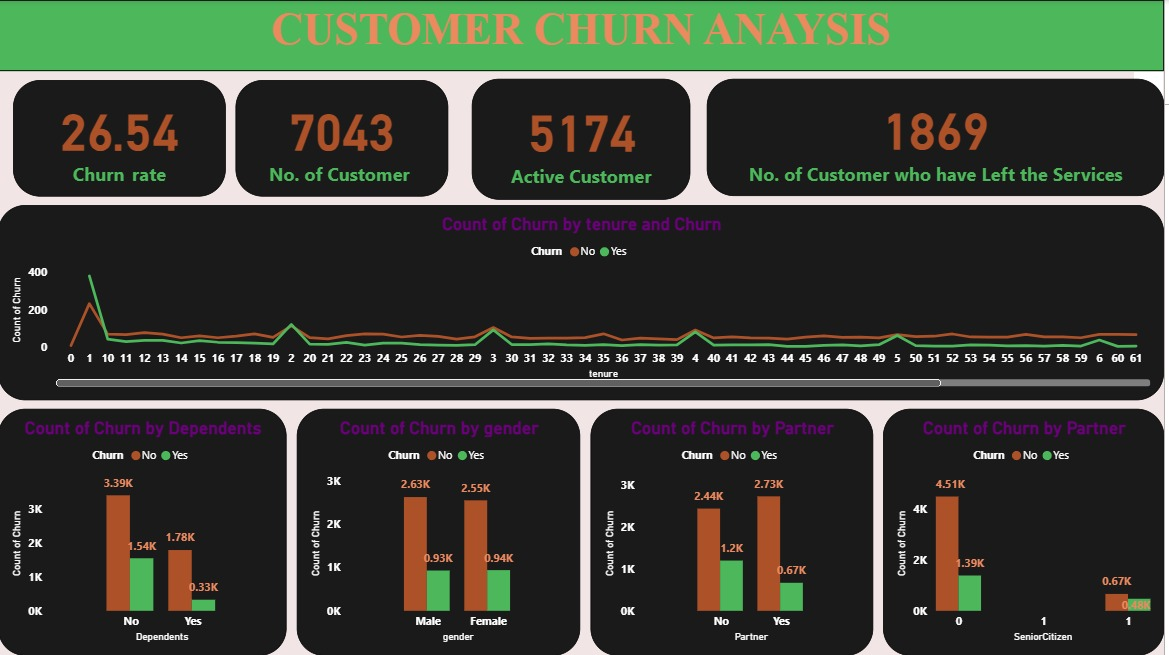

This screenshot's page, from the dashboard's own definition file:
{"tool":"powerbi","page":{"name":"Page 1","canvas":[1280,720],"ordinal":0},"visuals":[{"type":"textbox","box":[0,0,1280.3,78.2],"z":0},{"type":"card","fields":{"Values":["CountNonNull(Cutomer_churn_analysis.Customer ID)"]},"box":[260.7,87.8,233.3,127.6],"z":1000},{"type":"card","fields":{"Values":["CountNonNull(Cutomer_churn_analysis.Churn)"]},"box":[778,86.4,502.2,129],"z":2000},{"type":"card","fields":{"Values":["Cutomer_churn_analysis.Churn_rate"]},"box":[16.5,87.8,233.3,127.6],"z":3000},{"type":"clusteredColumnChart","title":"Count of Churn by Dependents","fields":{"Category":["Cutomer_churn_analysis.Dependents"],"Y":["CountNonNull(Cutomer_churn_analysis.Churn)"],"Series":["Cutomer_churn_analysis.Churn"]},"box":[0,448.6,317.1,271.4],"z":4000},{"type":"clusteredColumnChart","title":"Count of Churn by gender ","fields":{"Y":["CountNonNull(Cutomer_churn_analysis.Churn)"],"Series":["Cutomer_churn_analysis.Churn"],"Category":["Cutomer_churn_analysis.gender"]},"box":[328.6,448.6,311.4,271.4],"z":5000},{"type":"clusteredColumnChart","title":"Count of Churn by Partner ","fields":{"Y":["CountNonNull(Cutomer_churn_analysis.Churn)"],"Series":["Cutomer_churn_analysis.Churn"],"Category":["Cutomer_churn_analysis.Partner"]},"box":[650,448.6,310,271.4],"z":6000},{"type":"lineChart","fields":{"Category":["Cutomer_churn_analysis.tenure"],"Y":["CountNonNull(Cutomer_churn_analysis.Churn)"],"Series":["Cutomer_churn_analysis.Churn"]},"box":[0,225,1280.3,214.1],"z":7000},{"type":"clusteredColumnChart","title":"Count of Churn by Partner ","fields":{"Y":["CountNonNull(Cutomer_churn_analysis.Churn)"],"Series":["Cutomer_churn_analysis.Churn"],"Category":["Cutomer_churn_analysis.SeniorCitizen"]},"box":[971.4,448.6,308.6,271.4],"z":8000},{"type":"card","fields":{"Values":["Cutomer_churn_analysis.Active_Customers1"]},"box":[520.1,86.4,240.1,133.1],"z":9000}]}

Visuals, with their boxes in screenshot pixels (x1, y1, x2, y2), scaled from the page's 1280x720 canvas onto the 1169x655 screenshot:
textbox: x1=0 y1=0 x2=1168 y2=71
card - CountNonNull(Cutomer_churn_analysis.Customer ID): x1=238 y1=80 x2=451 y2=196
card - CountNonNull(Cutomer_churn_analysis.Churn): x1=711 y1=79 x2=1168 y2=196
card - Cutomer_churn_analysis.Churn_rate: x1=15 y1=80 x2=228 y2=196
"Count of Churn by Dependents" clusteredColumnChart: x1=0 y1=408 x2=290 y2=654
"Count of Churn by gender " clusteredColumnChart: x1=300 y1=408 x2=584 y2=654
"Count of Churn by Partner " clusteredColumnChart: x1=594 y1=408 x2=877 y2=654
lineChart - Cutomer_churn_analysis.tenure x CountNonNull(Cutomer_churn_analysis.Churn): x1=0 y1=205 x2=1168 y2=399
"Count of Churn by Partner " clusteredColumnChart: x1=887 y1=408 x2=1168 y2=654
card - Cutomer_churn_analysis.Active_Customers1: x1=475 y1=79 x2=694 y2=200
